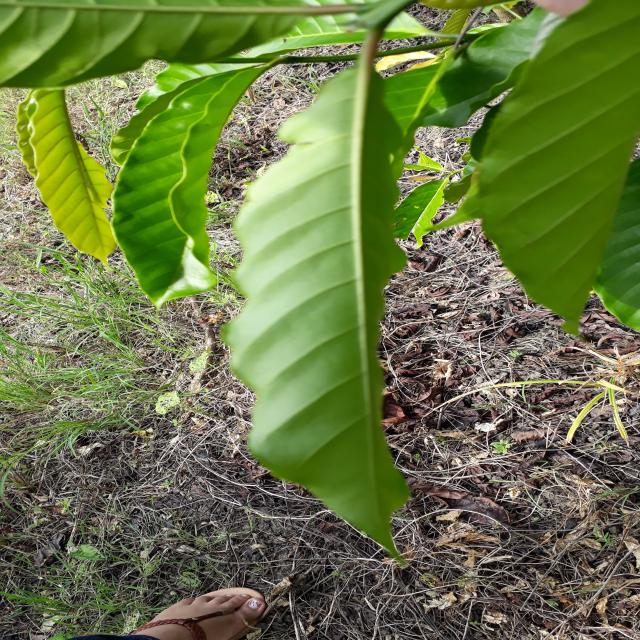Sanas: (223, 25, 410, 556)
